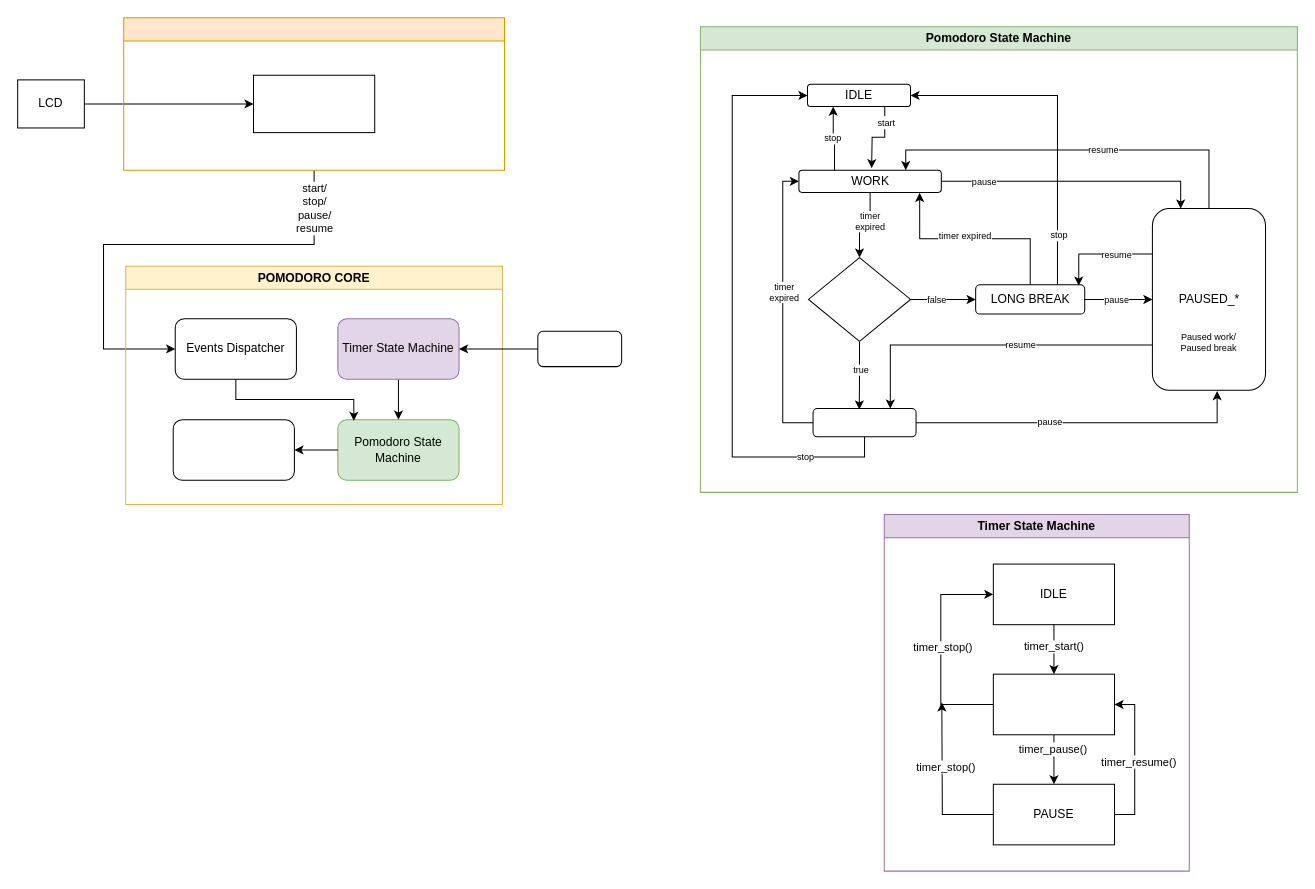
This 1315x889 diagram has some shape labels left out. Here are the shapes that lost their labels. From the top down, the box of each, then its label:
(123, 17, 504, 170): EVENTS
(252, 74, 375, 133): User Inputs (Start/Stop, Settings)
(807, 257, 911, 341): cycle_count < cycles
(537, 330, 622, 367): HAL tick
(812, 408, 916, 437): SHORT BREAK
(172, 419, 294, 480): Database (User settings, States-related)
(992, 673, 1115, 735): RUNNING
